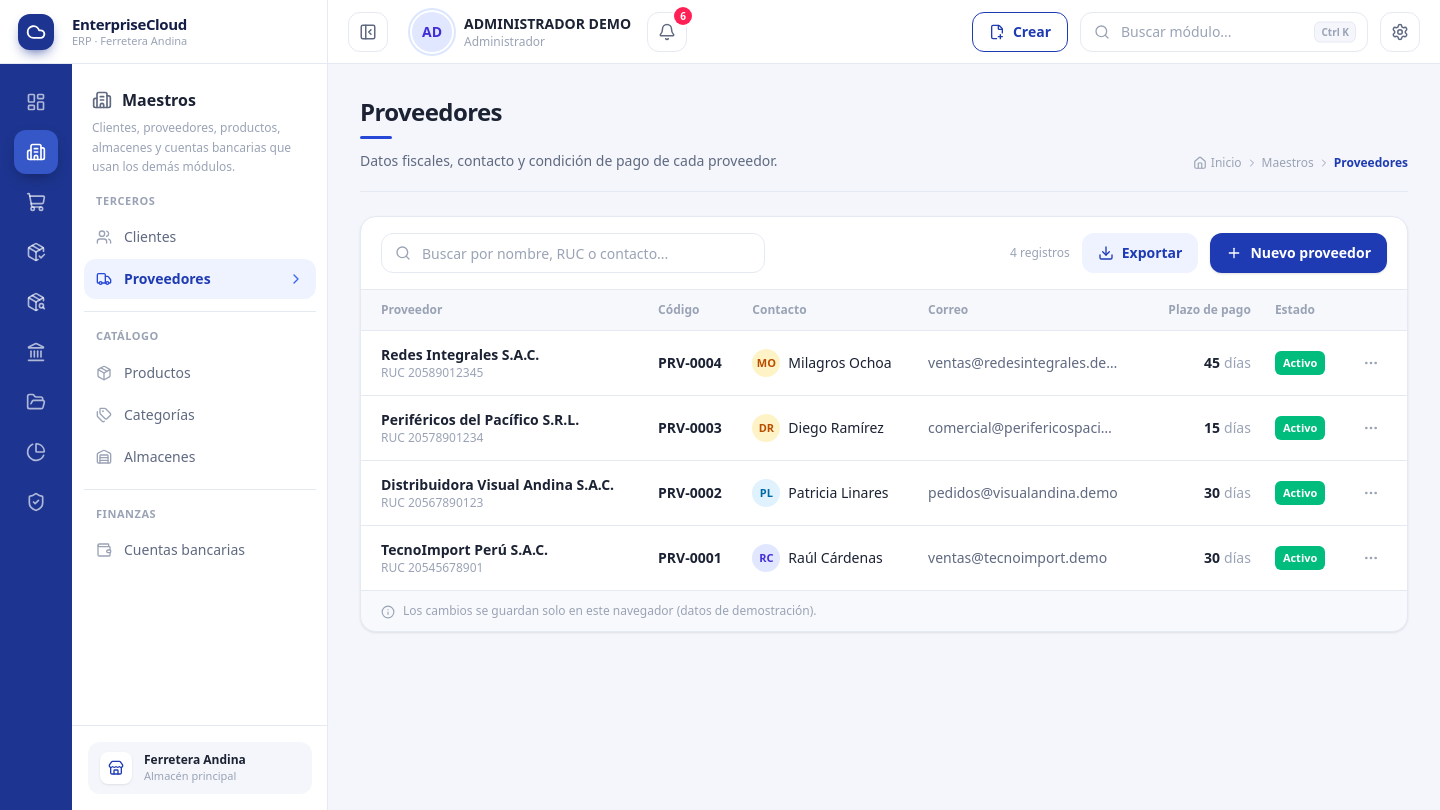
Test case: acciones sobre registros › abre el detalle al hacer clic en una fila
This screenshot has width=1440, height=810.
Click the text "Redes Integrales S.A.C." at (460, 354), box [381,345,539,364]
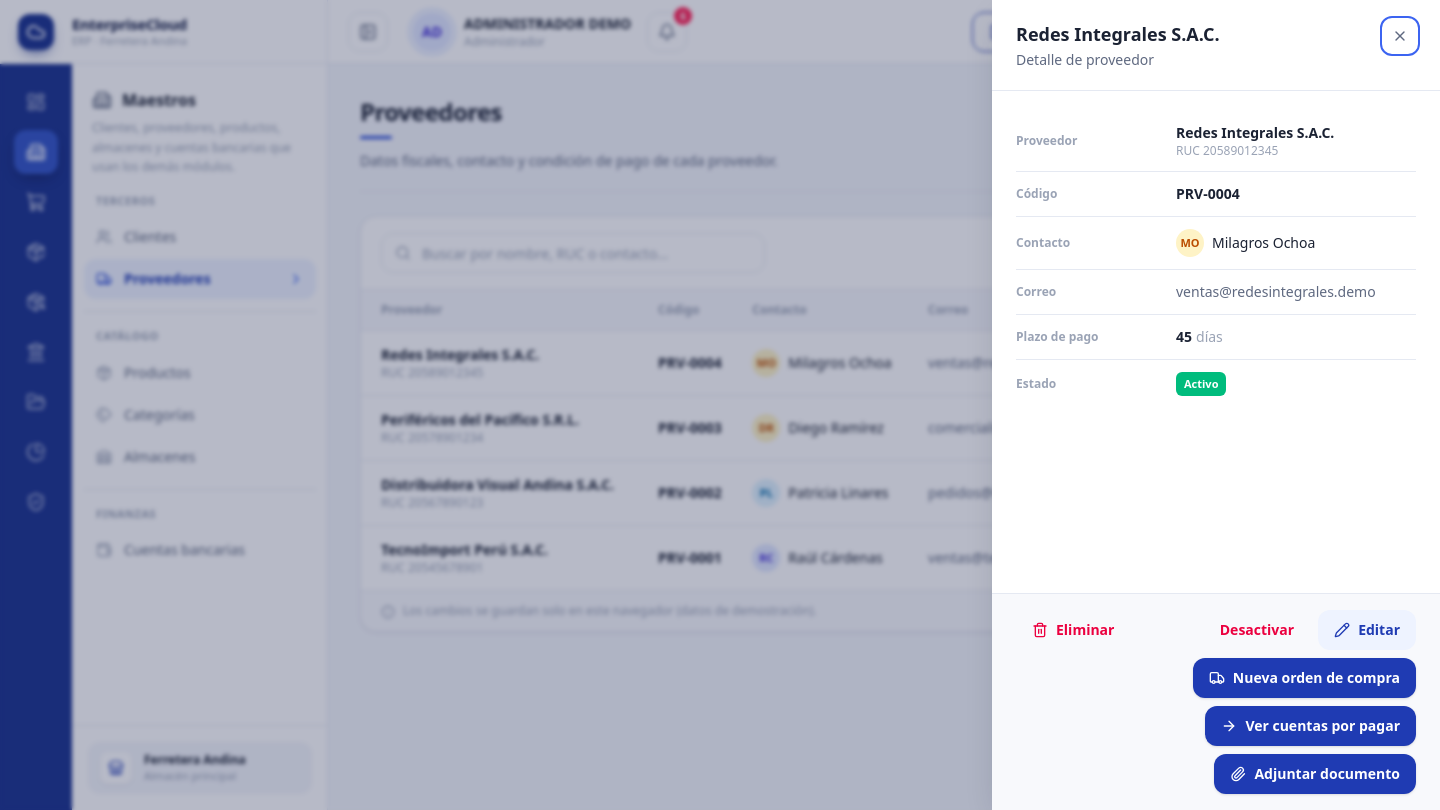
Check: the button "Editar" is shown, box [1318,610,1416,650]
